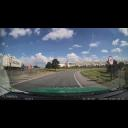speed_limit_40: (108, 57, 114, 65), (8, 57, 12, 64)
